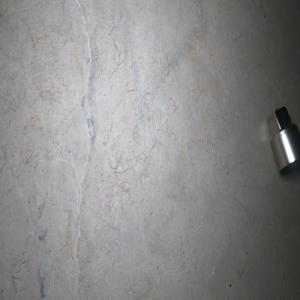MetalPart: (266, 105, 300, 175)
